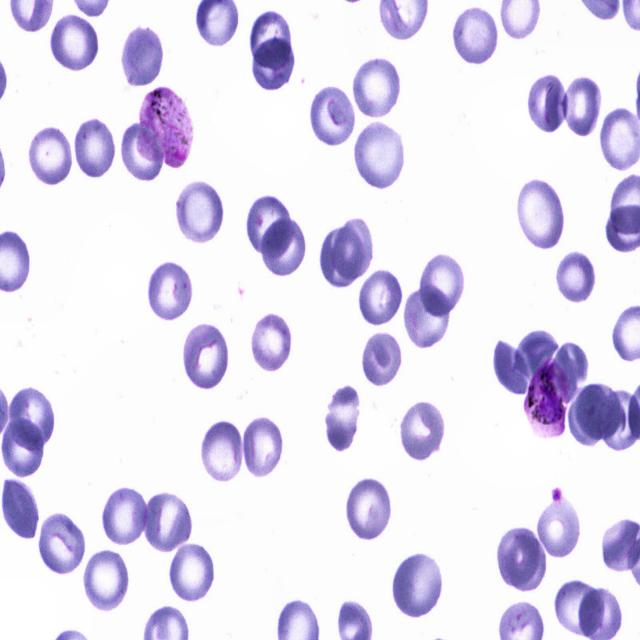difficult: (523, 358, 571, 439)
gametocyte: (140, 85, 196, 166)
red blood cell: (515, 175, 567, 252), (352, 119, 406, 192), (390, 549, 444, 619), (494, 521, 546, 593), (350, 55, 405, 118), (140, 490, 194, 554), (7, 384, 58, 451), (417, 251, 466, 320), (244, 194, 294, 261), (24, 123, 76, 186), (182, 324, 232, 389), (175, 178, 224, 244), (119, 22, 168, 88), (100, 483, 150, 547), (48, 13, 101, 73), (166, 541, 218, 602), (399, 398, 447, 464), (36, 515, 87, 577), (404, 281, 450, 349), (260, 215, 308, 280), (346, 476, 393, 542), (555, 575, 605, 637), (82, 549, 131, 611), (452, 5, 500, 68), (356, 268, 406, 328), (322, 380, 363, 452), (536, 494, 582, 558), (73, 116, 118, 181), (310, 84, 354, 150), (146, 260, 193, 321), (200, 420, 246, 482), (251, 33, 297, 95), (574, 382, 622, 441), (525, 70, 569, 134), (240, 414, 284, 478), (2, 415, 48, 476), (320, 227, 364, 290), (121, 121, 165, 184), (567, 383, 610, 447), (559, 76, 603, 137), (332, 218, 375, 280), (250, 313, 294, 373), (250, 10, 292, 72), (1, 474, 39, 540), (555, 249, 599, 306), (362, 330, 404, 389), (514, 328, 560, 379), (494, 340, 530, 399), (551, 343, 589, 394)
